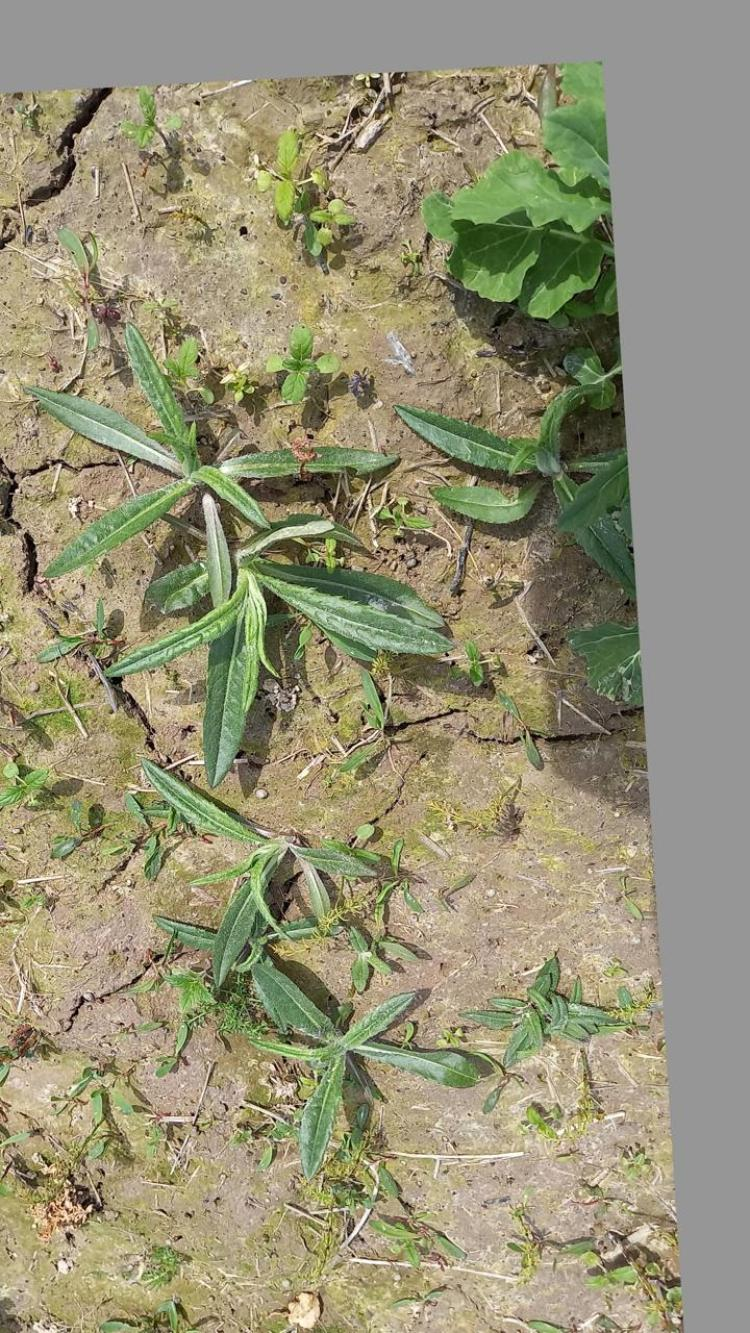osot: (25, 321, 408, 623), (140, 514, 460, 789), (127, 760, 415, 973), (223, 950, 477, 1172)
